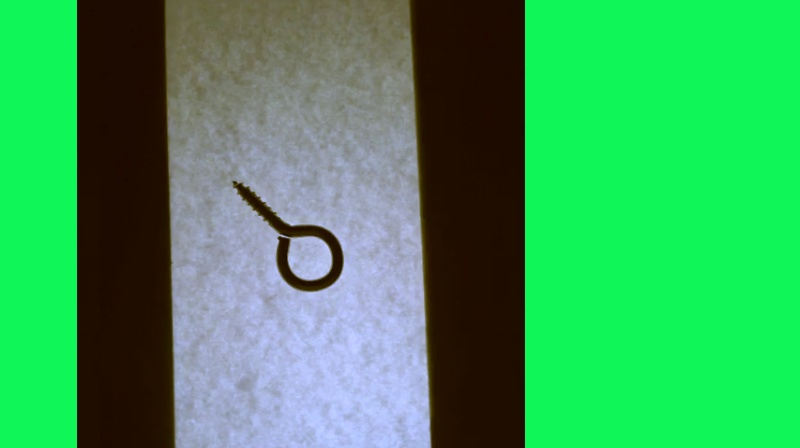O001: (229, 173, 349, 295)
